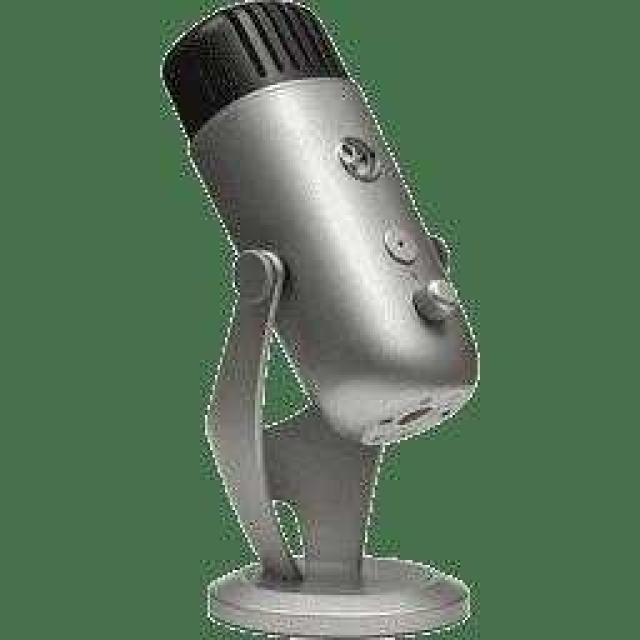microphone: (160, 5, 482, 632)
